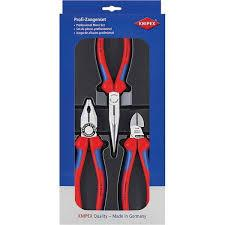pliers: (95, 36, 132, 156), (72, 97, 107, 209), (120, 110, 151, 209)
